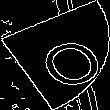O_NW: (13, 22, 97, 88)
